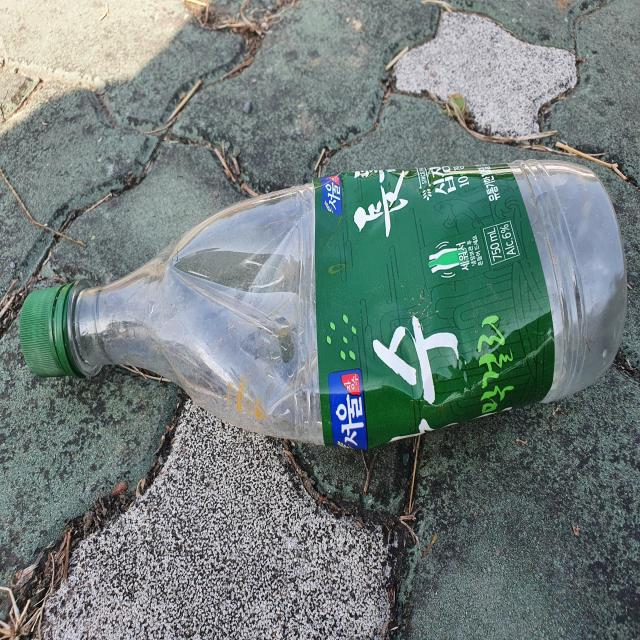plastic: (19, 161, 628, 449)
